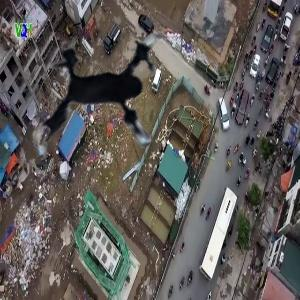drone: (11, 6, 209, 204)
